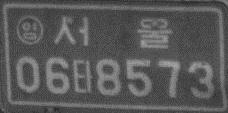0: (14, 54, 41, 93)
3: (187, 59, 214, 100)
5: (124, 57, 152, 98)
6: (44, 56, 70, 95)
7: (157, 59, 181, 99)
8: (95, 58, 121, 97)
서울_D: (53, 16, 173, 50)
영: (16, 15, 44, 46)
타: (72, 58, 94, 95)
